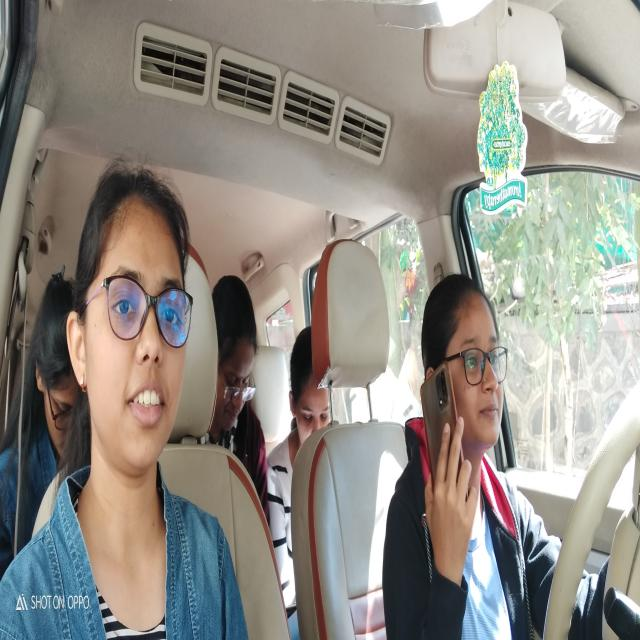mobile: (419, 364, 467, 499)
person: (69, 172, 187, 463), (420, 277, 512, 456), (32, 278, 86, 457), (212, 274, 256, 436), (292, 302, 332, 446)
